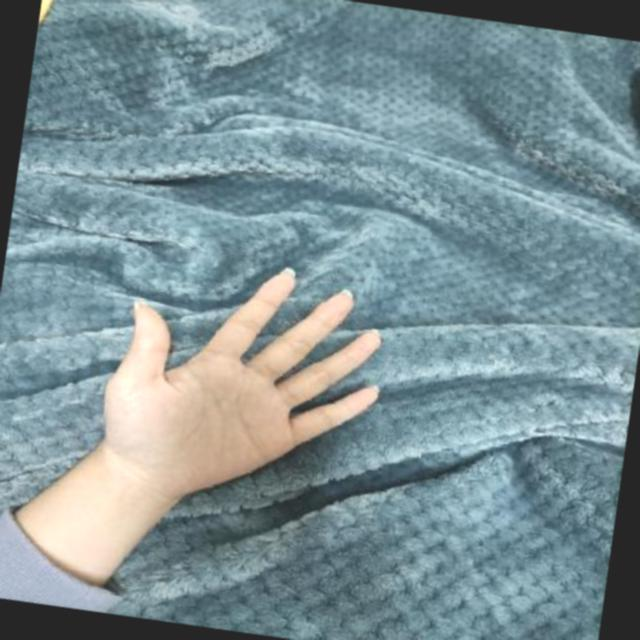hand: (72, 230, 407, 532)
